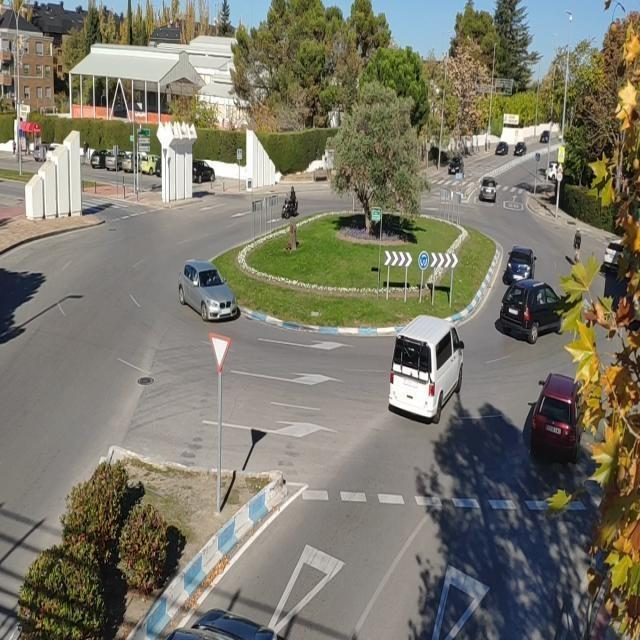Car: (367, 324, 470, 434), (522, 368, 592, 454), (495, 279, 573, 346), (169, 253, 238, 324), (498, 245, 540, 284), (600, 240, 628, 270), (475, 177, 502, 202), (443, 156, 469, 177), (492, 137, 512, 157), (513, 140, 529, 160)
